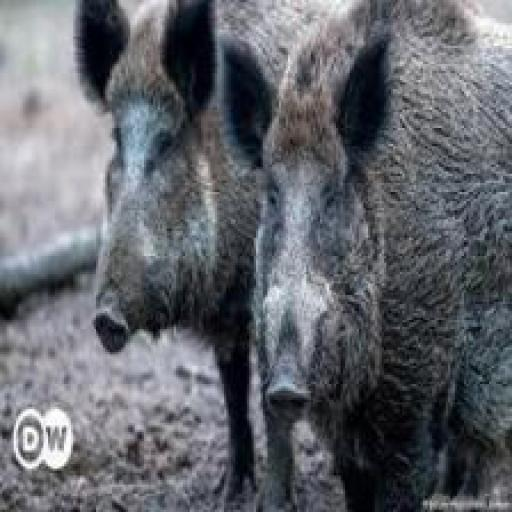Pig: (36, 18, 254, 375), (268, 55, 434, 512)
